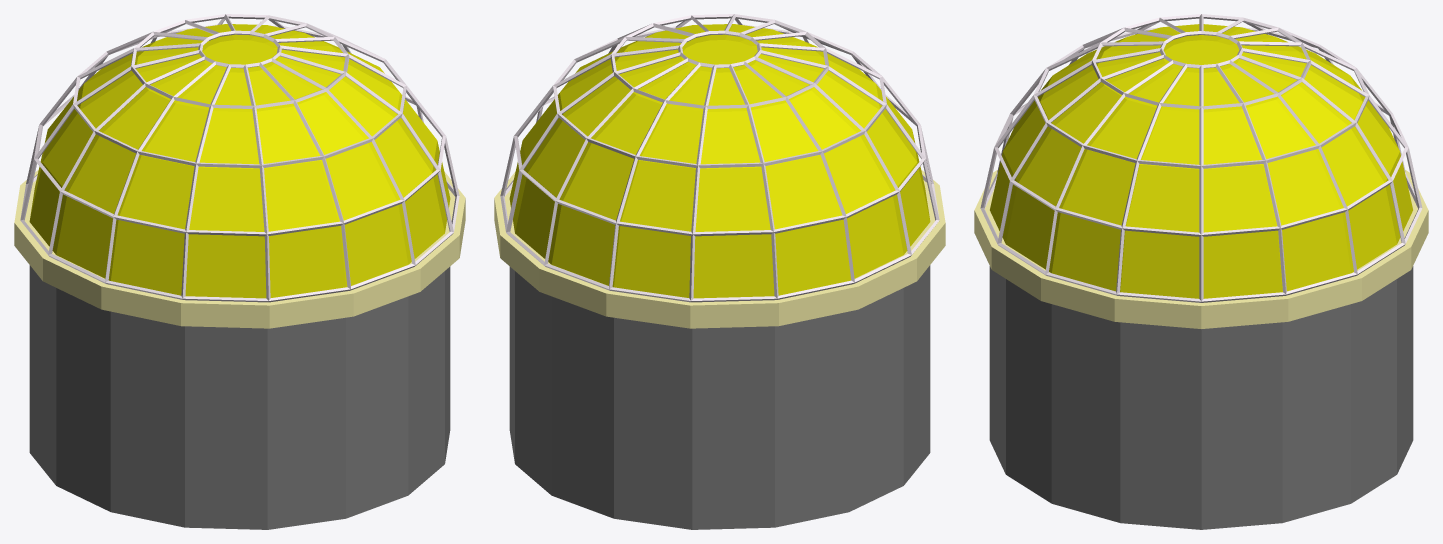
File: svetlo.fbx
3 renders of one model, left to right at view 1: azimuth 30°, elevation 25°; view 2: azimuth 150°, elevation 25°; view 3: azimuth 270°, elevation 25°, orthographic.
Parts seen in each view (by area): view 1: svetlo; view 2: svetlo; view 3: svetlo.
Boxes of the visible parts, <box> form: svetlo: <box>14,14,465,529</box>; svetlo: <box>494,14,945,529</box>; svetlo: <box>974,14,1428,529</box>.
Bounding box in the file's own units: 107 × 102 × 107.
